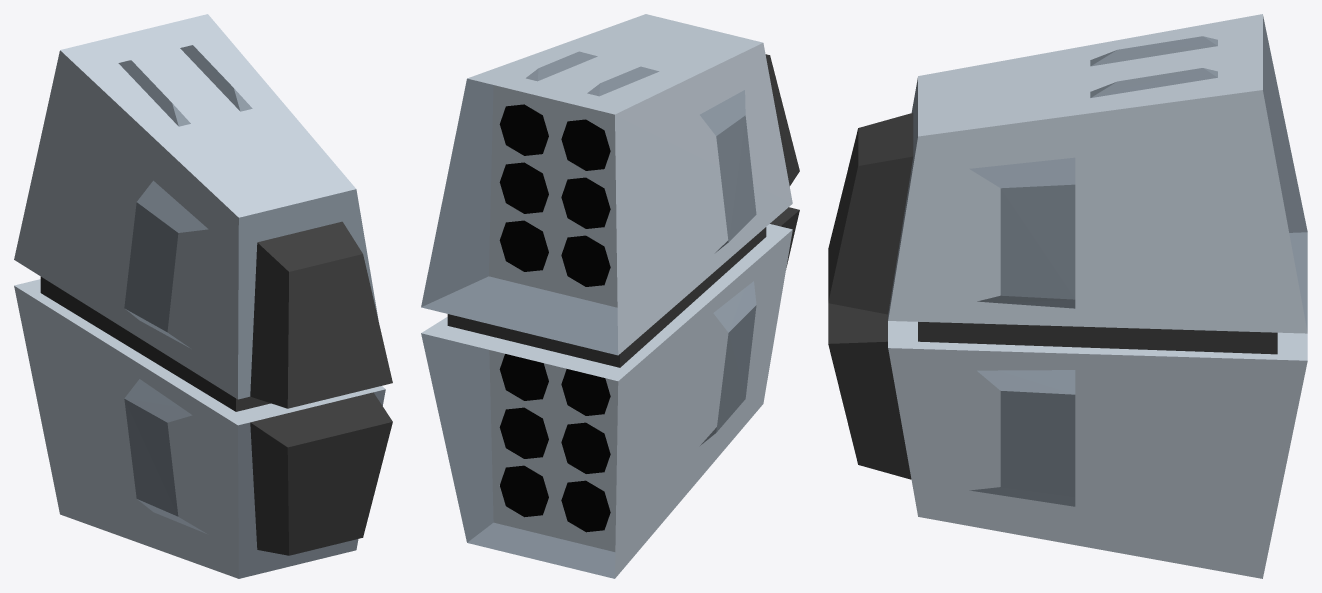
File: Wepon.FBX
The picture shows the model from 3 angles, left to right: view 1: azimuth 30°, elevation 25°; view 2: azimuth 150°, elevation 25°; view 3: azimuth 270°, elevation 25°; orthographic projection. The views are drawn at different scales.
Visible parts, largest first — view 1: VIFS001, VIFS003, VIFS002; view 2: VIFS001, VIFS002, VIFS004, VIFS003; view 3: VIFS001, VIFS002, VIFS003.
Part boxes in pixels (box(x1,y1,x2,y2)): VIFS001: box(14, 14, 385, 578); VIFS003: box(40, 221, 392, 555); VIFS002: box(118, 45, 385, 578); VIFS001: box(421, 14, 792, 578); VIFS002: box(421, 51, 756, 578); VIFS004: box(499, 104, 610, 532); VIFS003: box(447, 54, 799, 367); VIFS001: box(888, 14, 1307, 578); VIFS002: box(888, 16, 1307, 506); VIFS003: box(828, 113, 1277, 479).
Bounding box in the file's own units: 0.416 × 0.936 × 0.832.
